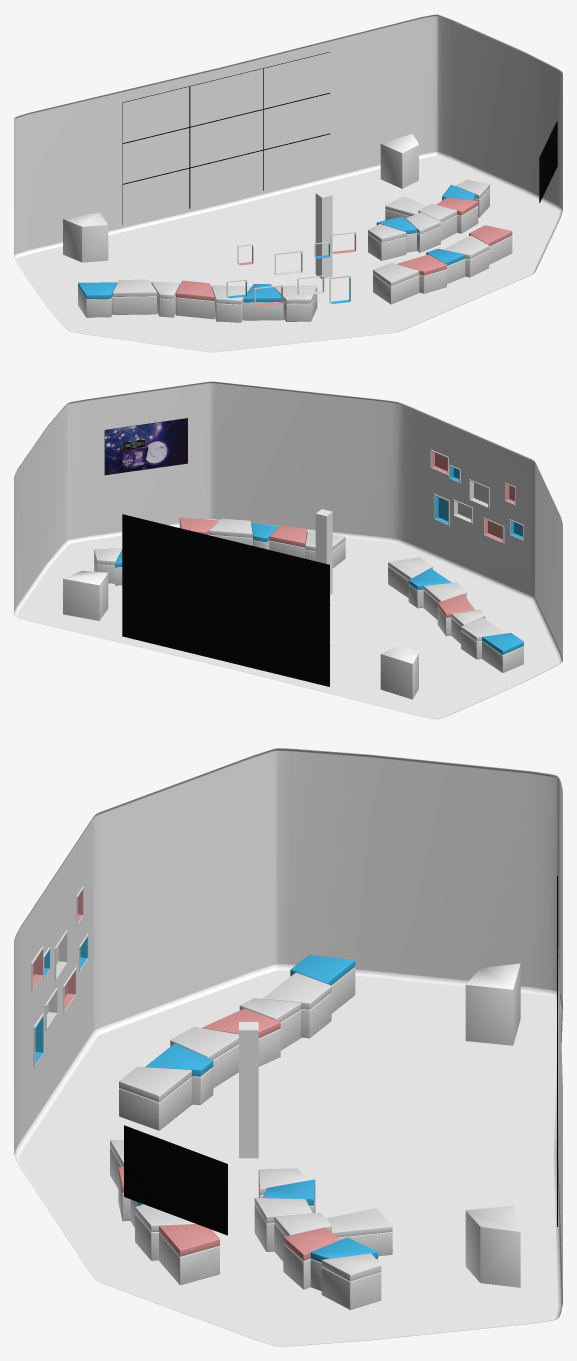
Rendered from Digital Lounge.glb.
The picture shows the model from 3 angles, top to bottom: view 1: azimuth 30°, elevation 25°; view 2: azimuth 150°, elevation 25°; view 3: azimuth 270°, elevation 25°; orthographic projection. The views are drawn at different scales.
Visible parts, largest first — view 1: walls, floor, screen Plane, seatUp (×14), seatDown (×12), stehledown (×2), Rounding 1, Height 180, Rounding 2, Rahmen; view 2: walls, floor, screen BAck, seatUp (×9), stehledown (×2), Bild, Rounding 1, Rounding 2, Height 180, seatDown; view 3: floor, walls, seatUp (×17), seatDown (×7), stehledown (×2), Rahmen, Rounding 1, Height 180, Rounding 2.
Boxes of the visible parts, x1=… form: walls: x1=14, y1=16, x2=562, y2=254; floor: x1=17, y1=156, x2=559, y2=352; screen Plane: x1=122, y1=52, x2=329, y2=224; seatUp (×14): x1=78, y1=196, x2=512, y2=304; seatDown (×12): x1=78, y1=226, x2=512, y2=322; stehledown (×2): x1=63, y1=134, x2=418, y2=262; Rounding 1: x1=14, y1=152, x2=562, y2=352; Height 180: x1=315, y1=190, x2=332, y2=278; Rounding 2: x1=14, y1=14, x2=562, y2=119; Rahmen: x1=539, y1=121, x2=557, y2=202; walls: x1=14, y1=383, x2=562, y2=658; floor: x1=17, y1=527, x2=559, y2=719; screen BAck: x1=122, y1=514, x2=329, y2=686; seatUp (×9): x1=179, y1=517, x2=523, y2=654; stehledown (×2): x1=63, y1=571, x2=418, y2=699; Bild: x1=105, y1=418, x2=187, y2=475; Rounding 1: x1=14, y1=519, x2=562, y2=719; Rounding 2: x1=15, y1=381, x2=560, y2=515; Height 180: x1=315, y1=509, x2=332, y2=594; seatDown: x1=482, y1=641, x2=523, y2=672; floor: x1=19, y1=970, x2=558, y2=1346; walls: x1=14, y1=751, x2=562, y2=1297; seatUp (×17): x1=119, y1=955, x2=392, y2=1281; seatDown (×7): x1=119, y1=967, x2=381, y2=1309; stehledown (×2): x1=465, y1=963, x2=520, y2=1287; Rahmen: x1=124, y1=1125, x2=227, y2=1235; Rounding 1: x1=14, y1=964, x2=562, y2=1346; Height 180: x1=239, y1=1022, x2=258, y2=1158; Rounding 2: x1=14, y1=748, x2=560, y2=939.
Size of what is drawn, in the model's own units: 1145 by 312 by 700.
11 materials, 1 textured.
